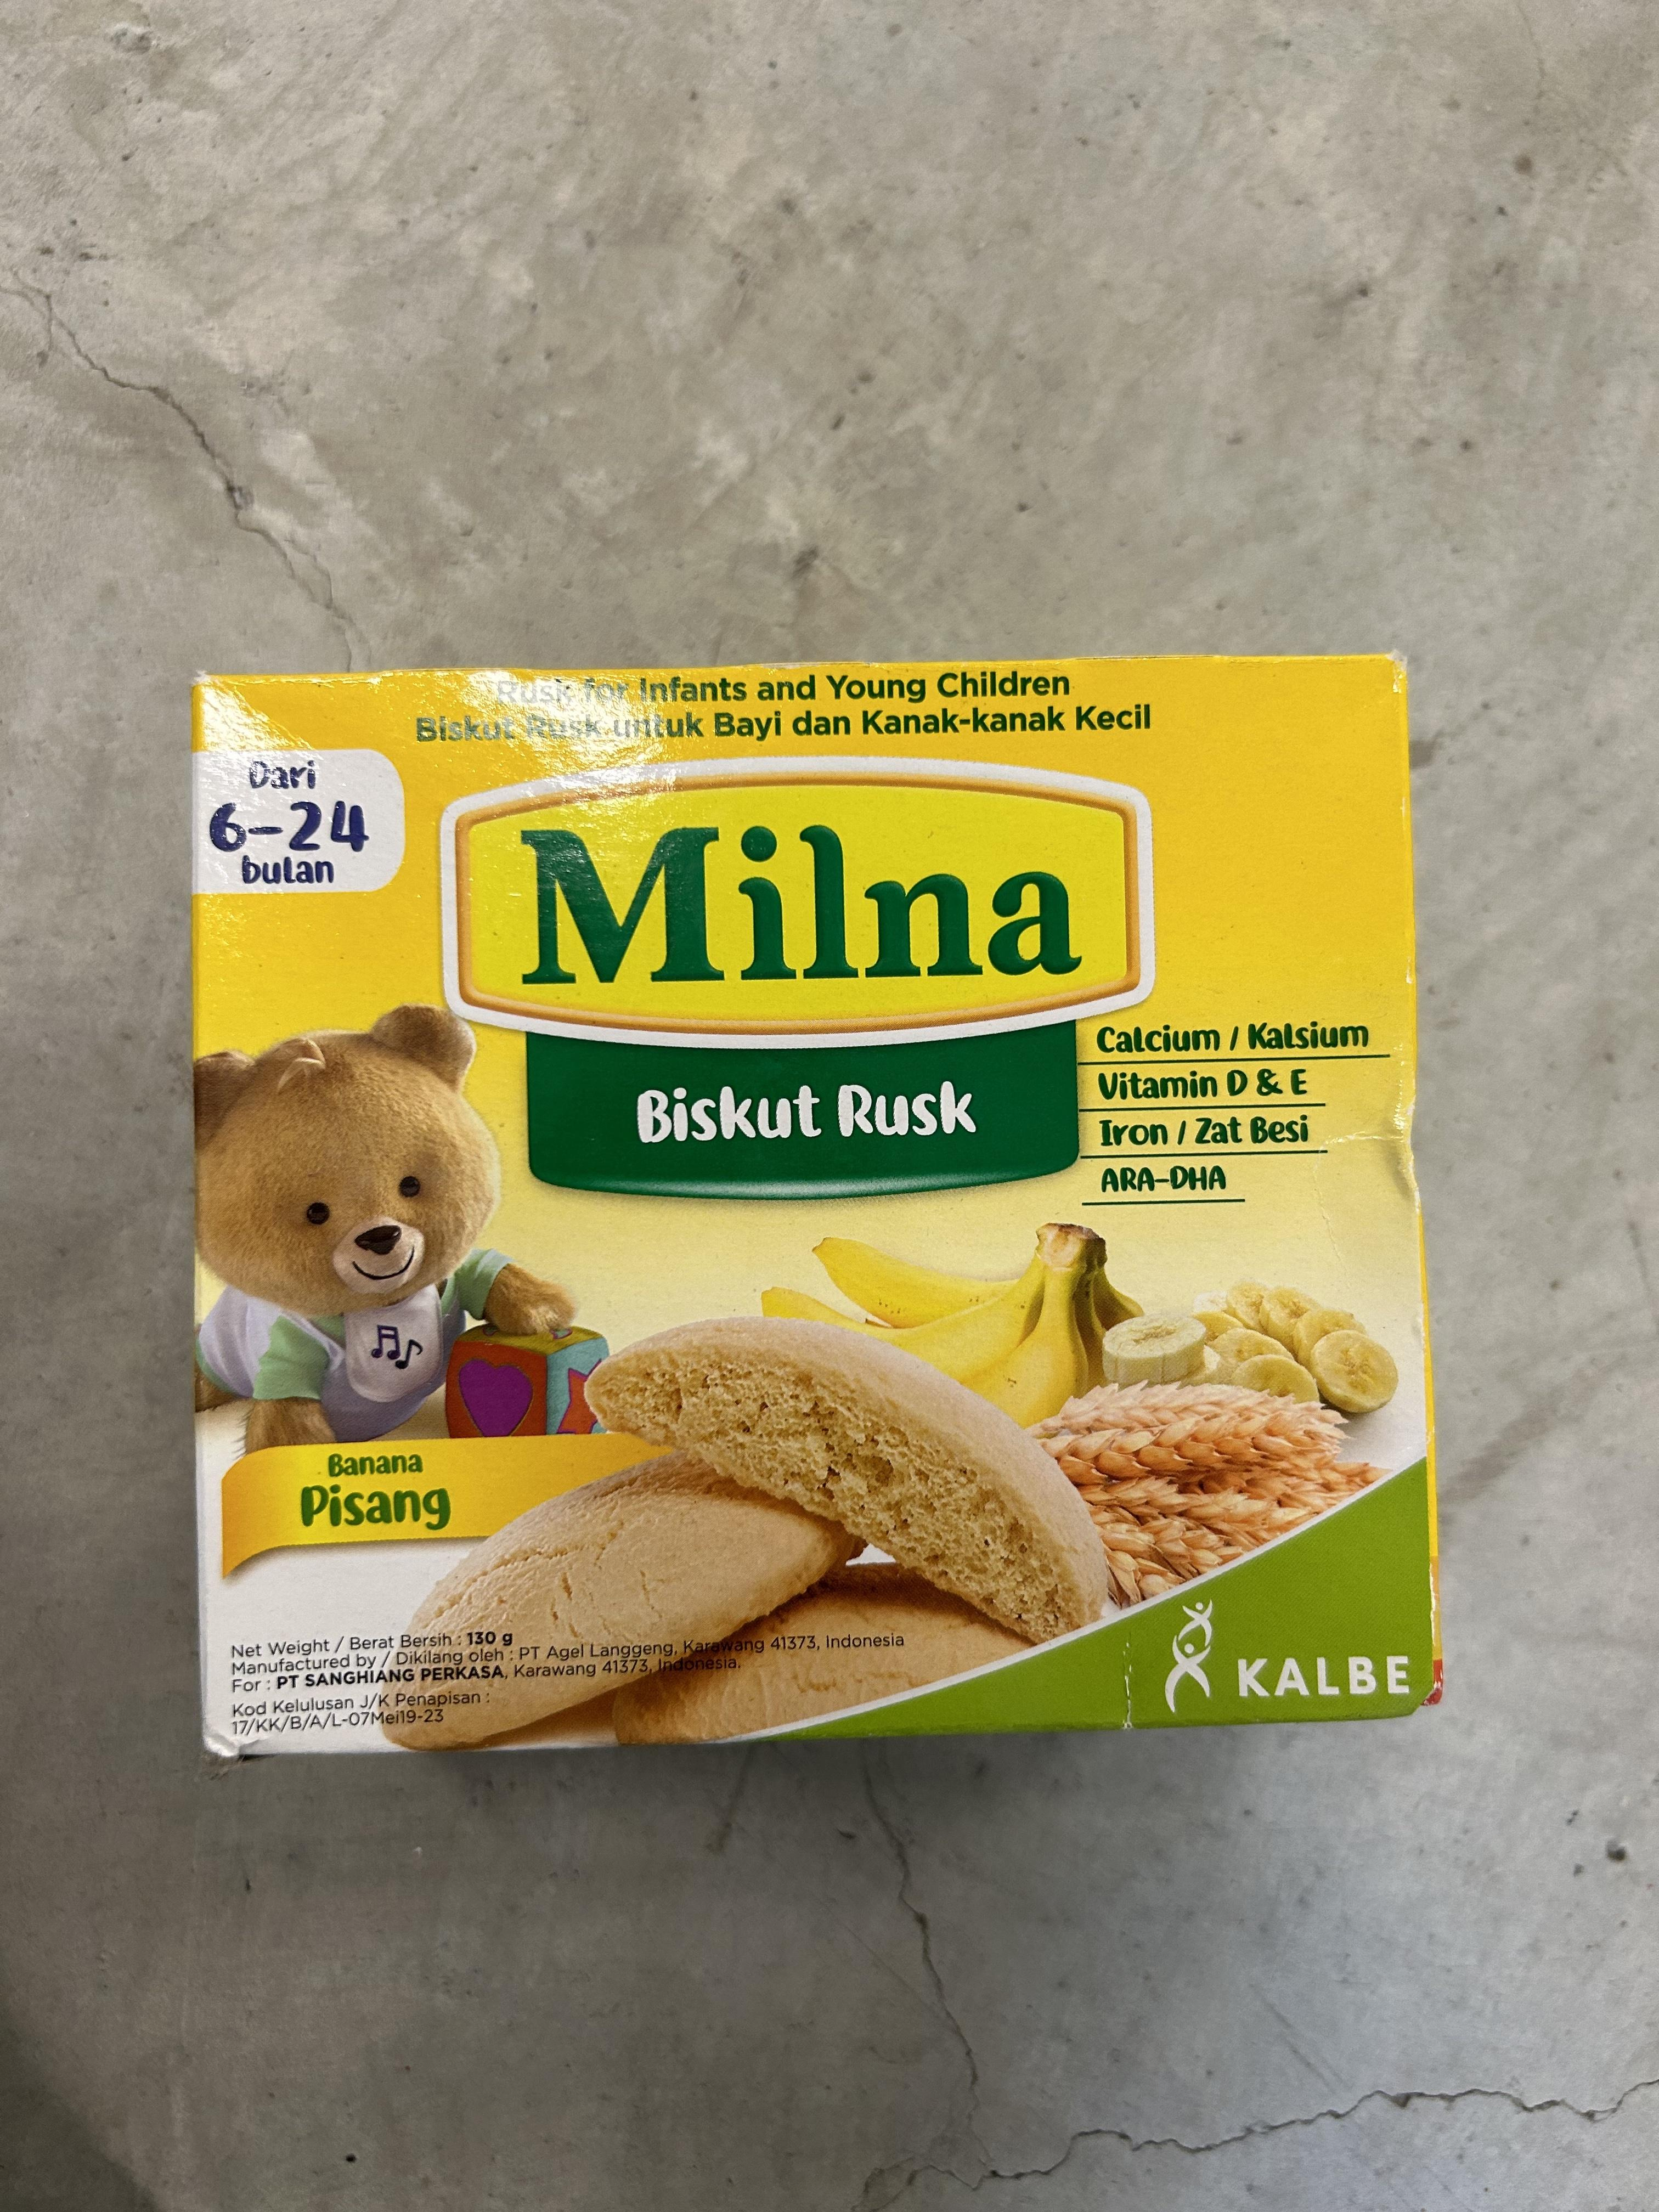object_name: (192, 669, 1438, 1726)
